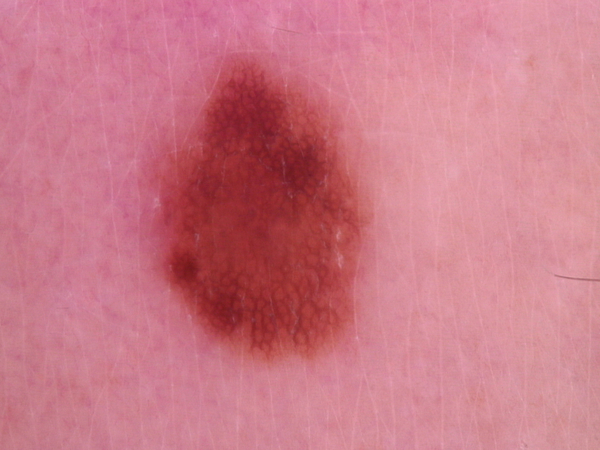Detected Lesion: (143, 46, 378, 372)
